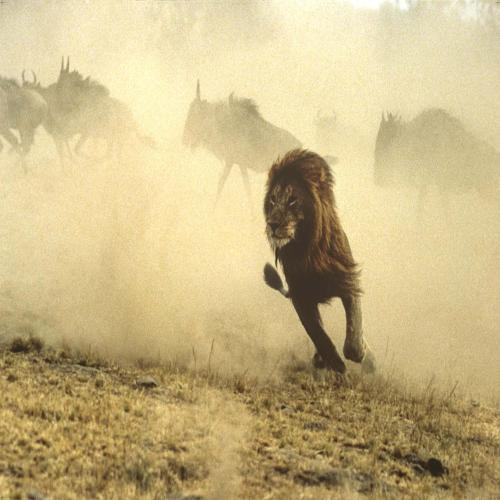lion-endangered: (263, 142, 374, 374)
